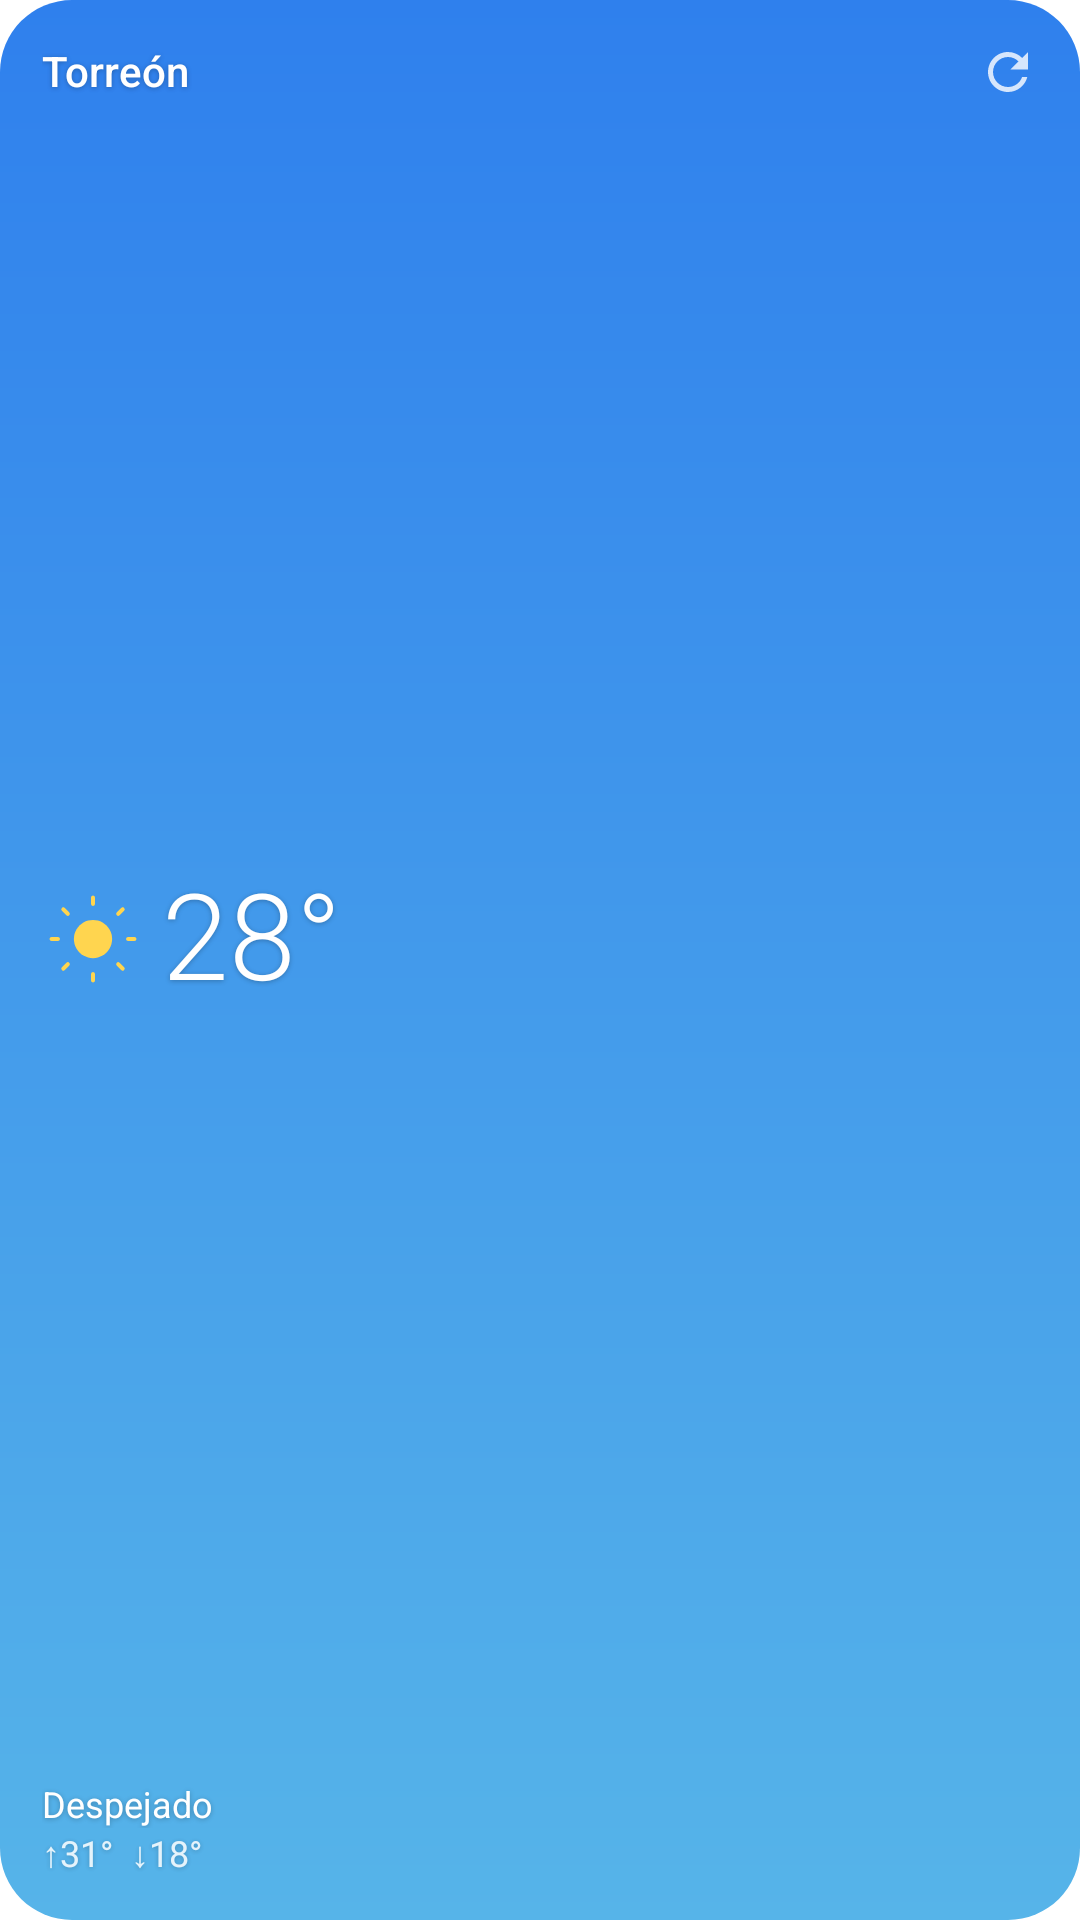

Screen size 1080w x 1920h. Icon name, then its box in pixels as (x1, y1, x2, y2):
Actualizar: (988, 52, 1028, 92)
weather sunny: (49, 895, 137, 983)
